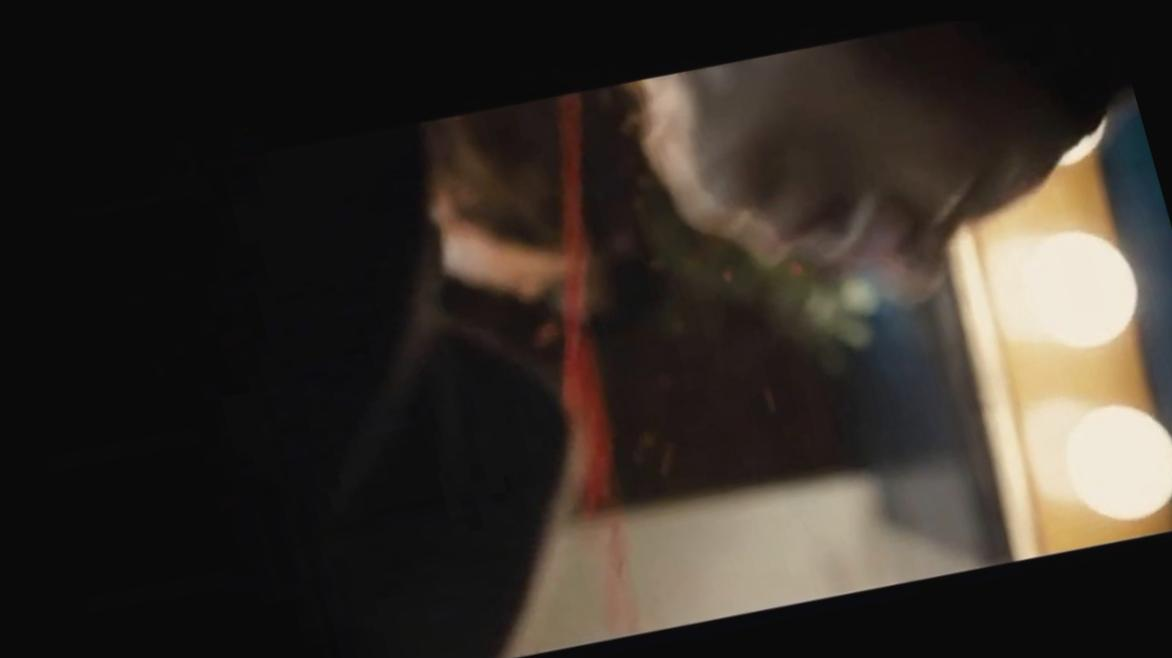Fire: (527, 90, 631, 633)
